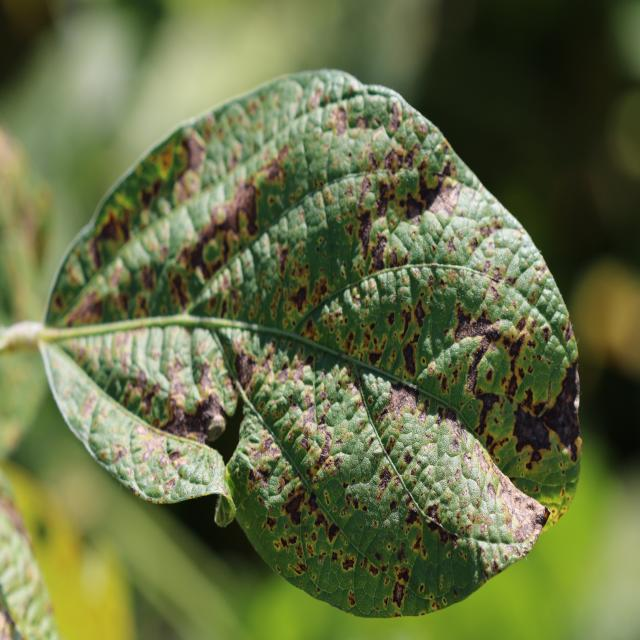Bacterial_Blight: (158, 373, 223, 442), (537, 367, 584, 456), (253, 165, 296, 240), (454, 307, 502, 360), (218, 180, 258, 241), (249, 430, 288, 489), (463, 337, 497, 397), (511, 404, 550, 454), (470, 389, 504, 437), (428, 178, 462, 223), (68, 285, 106, 325), (386, 386, 421, 428), (93, 209, 126, 253), (123, 368, 153, 414), (179, 131, 208, 178), (351, 204, 379, 243), (233, 347, 258, 389), (282, 488, 307, 526), (375, 174, 397, 217), (259, 155, 285, 190), (369, 232, 389, 273), (167, 272, 188, 309), (383, 146, 408, 173), (508, 330, 528, 362), (401, 341, 418, 377), (316, 429, 333, 465), (405, 192, 424, 222), (290, 284, 308, 314), (330, 104, 348, 134), (357, 175, 374, 206), (532, 504, 548, 530), (425, 503, 442, 526), (512, 521, 529, 543), (325, 521, 340, 543), (392, 582, 405, 607), (378, 467, 392, 489), (413, 301, 426, 324), (395, 566, 410, 584), (396, 543, 408, 563), (368, 350, 382, 367), (341, 555, 355, 571), (163, 477, 177, 492), (515, 315, 527, 332), (265, 515, 277, 532), (168, 448, 182, 462), (403, 452, 413, 465), (526, 501, 537, 512), (451, 535, 459, 550), (389, 499, 398, 512), (318, 555, 324, 564), (421, 356, 427, 365), (372, 520, 378, 528), (341, 508, 346, 517)
Soybean: (35, 69, 583, 621)
